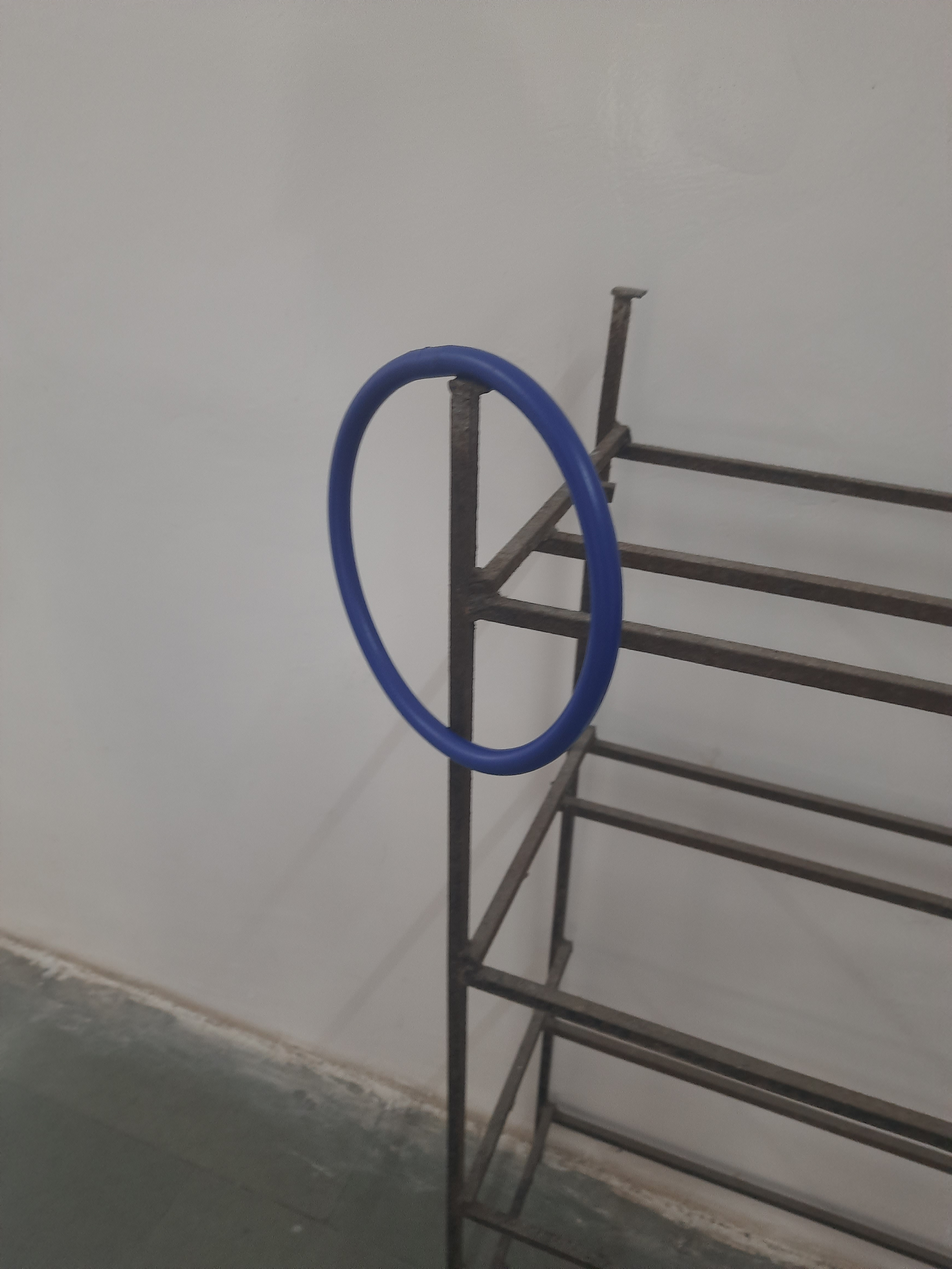Blue ring: (321, 345, 612, 777)
